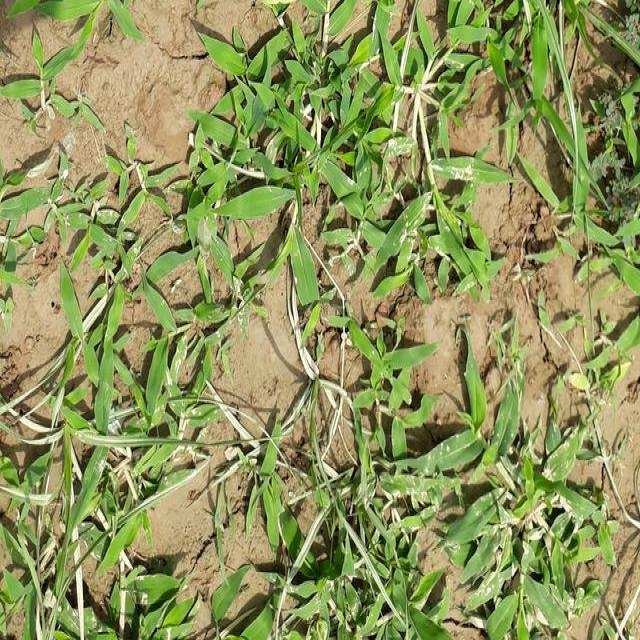weed: (137, 16, 640, 640), (0, 218, 116, 640)
